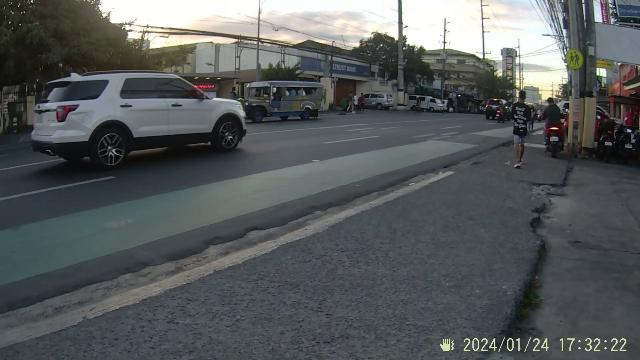car: (31, 70, 250, 168)
utility_post: (438, 16, 454, 62)
